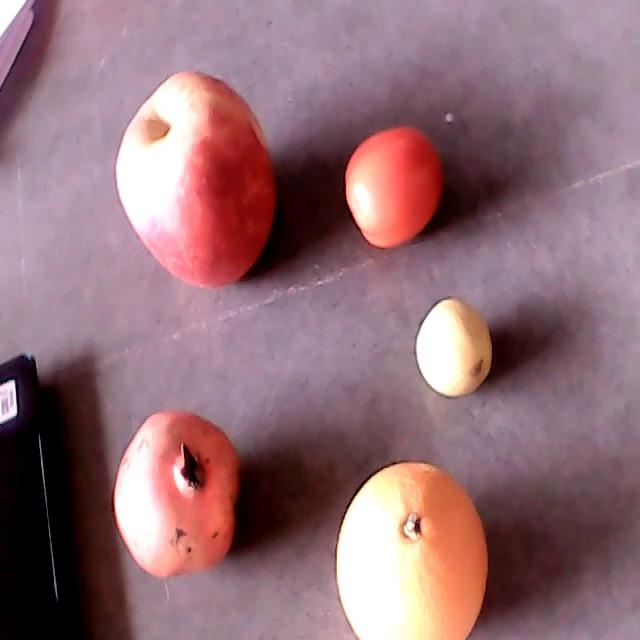apple: (117, 70, 275, 289)
lemon: (417, 294, 491, 398)
orange: (336, 462, 486, 638)
pomegranate: (114, 411, 242, 577)
tomato: (344, 126, 443, 248)
